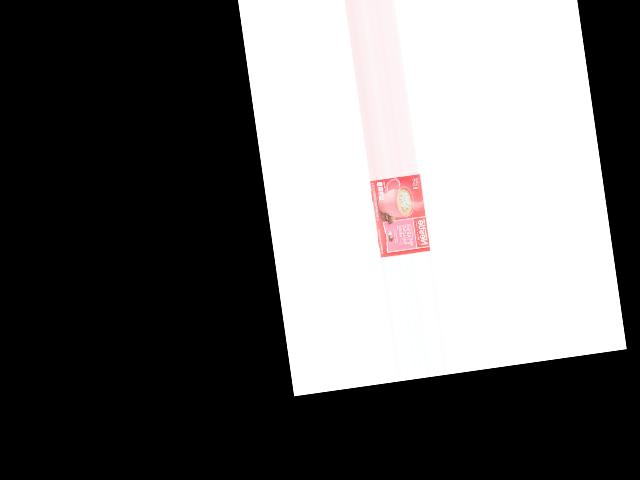chocolate: (366, 173, 428, 256)
